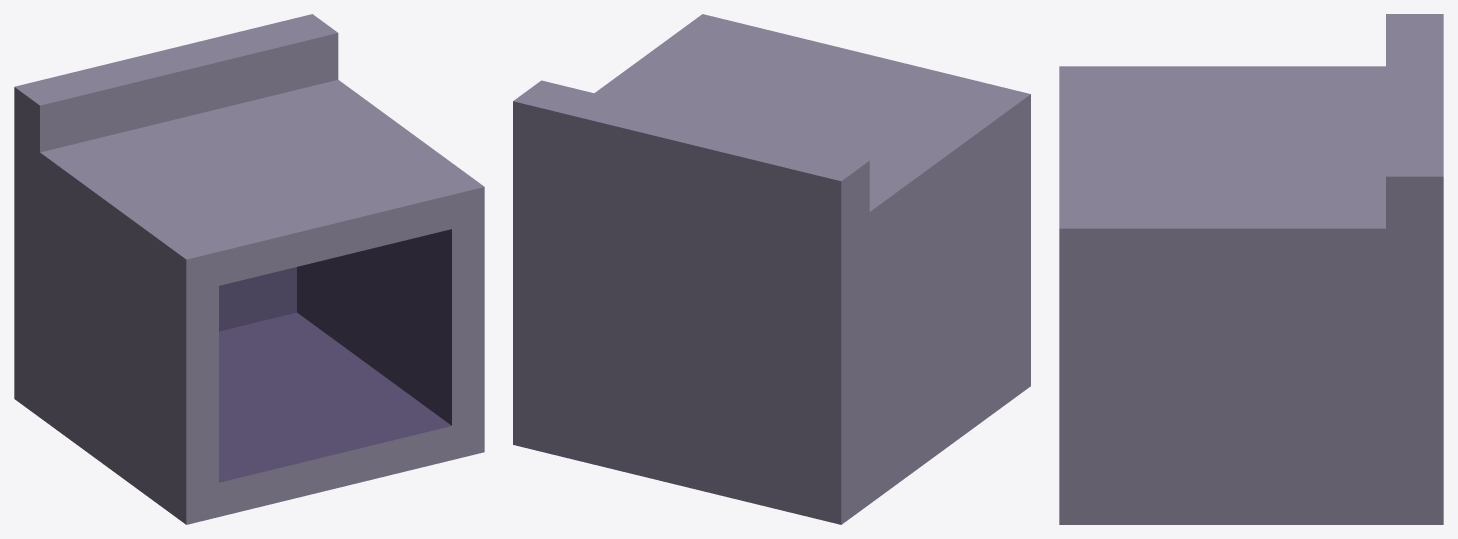
File: Oven.obj
3 renders of one model, left to right at view 1: azimuth 30°, elevation 25°; view 2: azimuth 150°, elevation 25°; view 3: azimuth 270°, elevation 25°, orthographic. The views are drawn at different scales.
Parts seen in each view (by area): view 1: Stove; view 2: Stove; view 3: Stove.
Part boxes in pixels (x1=…): Stove: x1=14, y1=14, x2=484, y2=524; Stove: x1=513, y1=14, x2=1030, y2=524; Stove: x1=1059, y1=14, x2=1443, y2=524.
Bounding box in the file's own units: 2 × 2 × 2.
